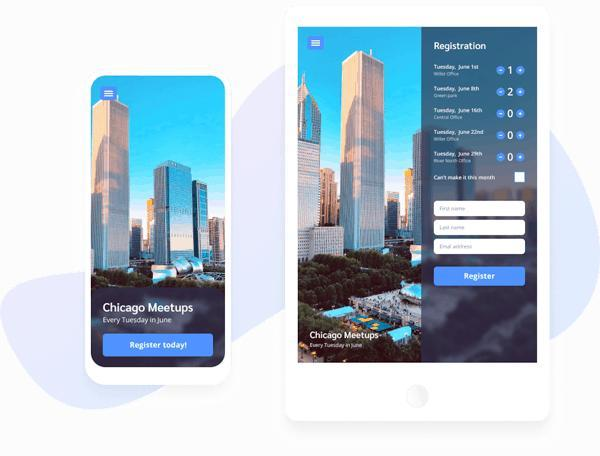button: (103, 336, 214, 356), (434, 266, 528, 289)
checkbox: (514, 171, 528, 185)
icon: (102, 89, 117, 99), (311, 38, 322, 49)
input: (434, 220, 527, 237), (435, 239, 527, 255), (435, 202, 526, 218)
label: (434, 42, 490, 52), (435, 175, 499, 183)
